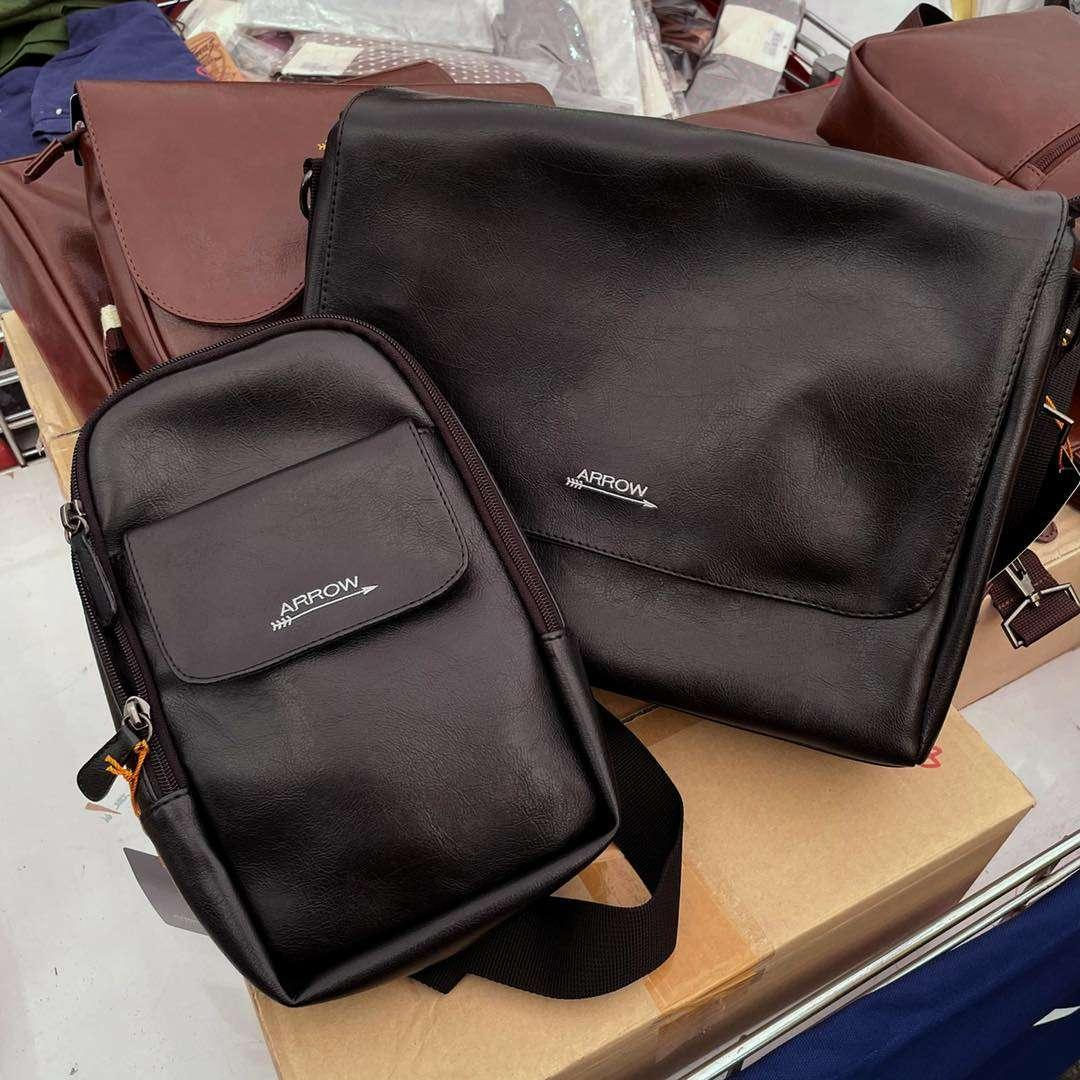backpack: (66, 260, 685, 1012)
